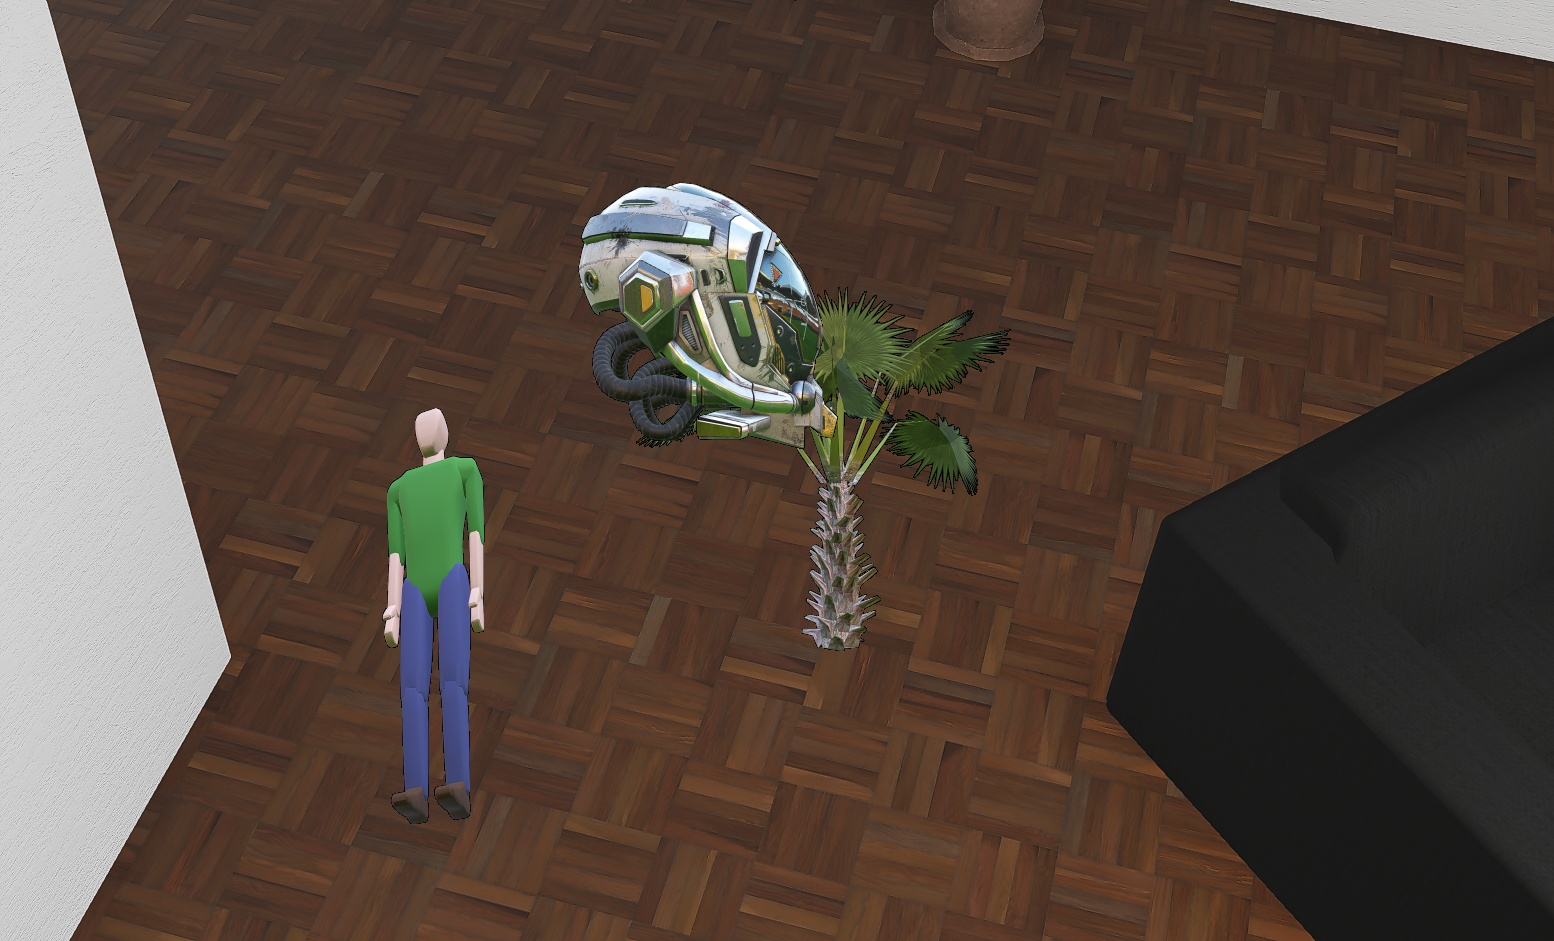arbol: (635, 286, 1012, 652)
casco: (578, 182, 838, 449)
persona: (382, 407, 485, 825)
